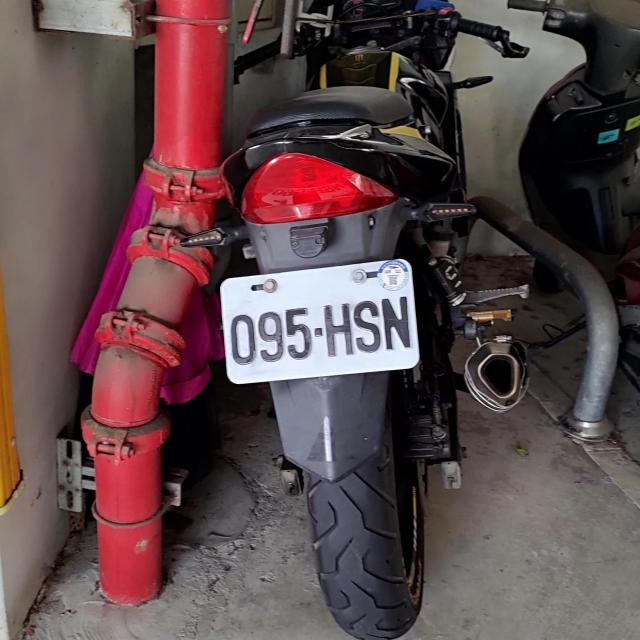W: (218, 260, 423, 384)
